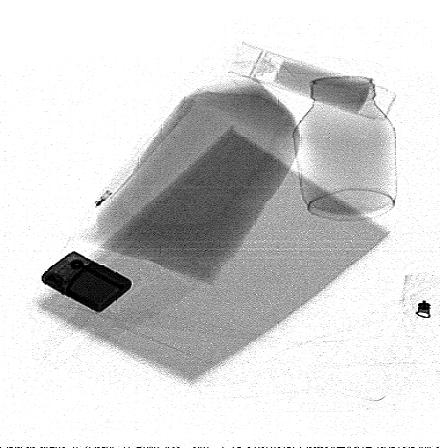Lighter: (41, 251, 133, 315)
